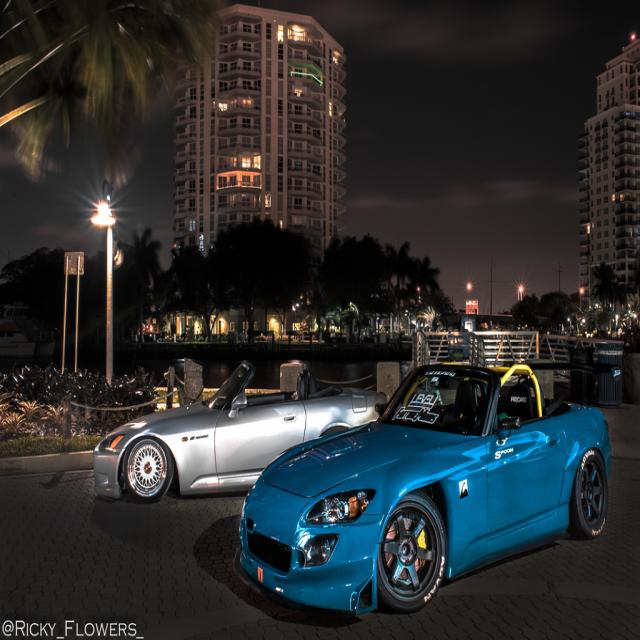car: (230, 356, 613, 610)
